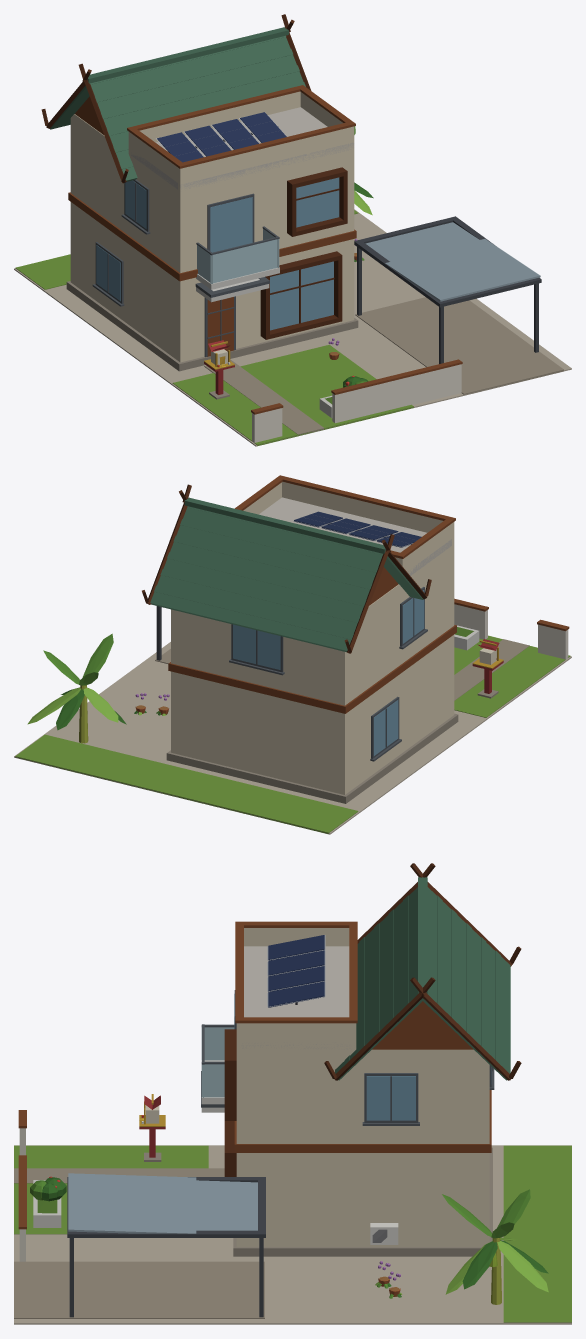
Rendered from house12_1.glb.
3 views of the same model, one above another, from view 1: azimuth 30°, elevation 25°; view 2: azimuth 150°, elevation 25°; view 3: azimuth 270°, elevation 25° (orthographic). The views are drawn at different scales.
Parts seen in each view (by area): view 1: body; view 2: body; view 3: body.
Part boxes in pixels (x1,y1,x2,y2): body: [14, 14, 571, 446]; body: [14, 475, 571, 834]; body: [14, 863, 571, 1324].
Size of the model in its own units: 12 by 9.26 by 15.9.
